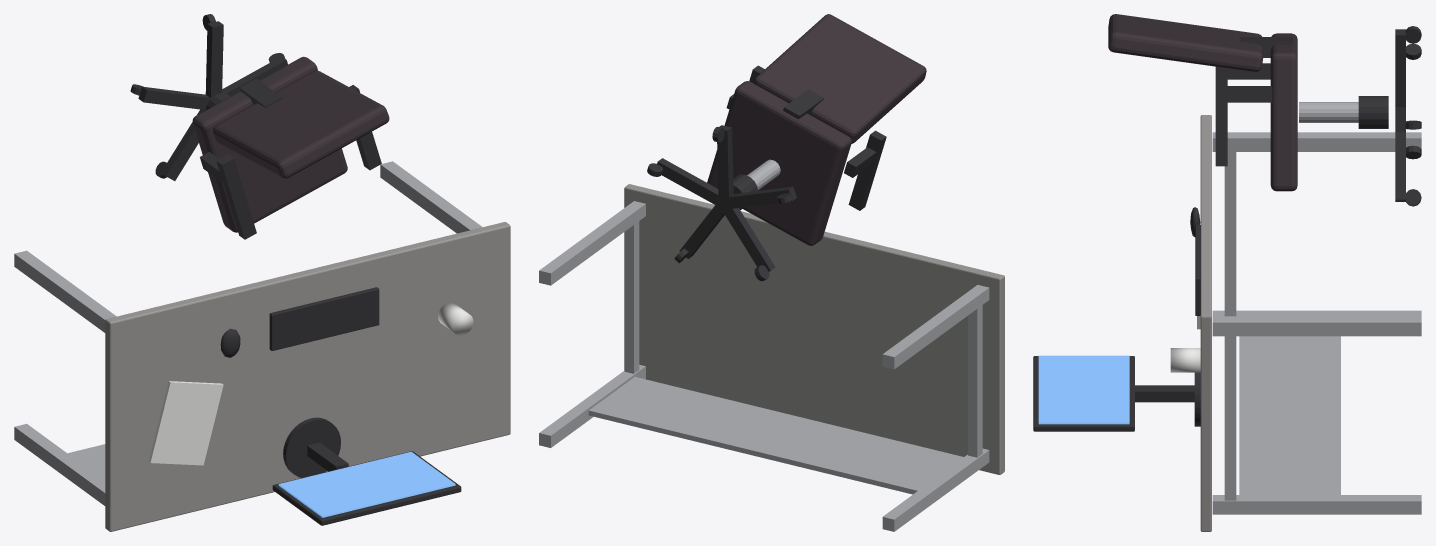
Rendered from podA_workstation0.glb.
The picture shows the model from 3 angles, left to right: view 1: azimuth 30°, elevation 25°; view 2: azimuth 150°, elevation 25°; view 3: azimuth 270°, elevation 25°; orthographic projection. The views are drawn at different scales.
Visible parts, largest first — view 1: podA_desk0_top, podA_chair0_back, podA_chair0_seat, podA_mon0_screen, podA_clut0_papers, podA_clut0_keyboard, podA_desk0_leg.002, podA_desk0_leg.003, podA_desk0_leg, podA_mon0_base, podA_mon0_panel, podA_chair0_arm (+9 smaller); view 2: podA_desk0_top, podA_desk0_modesty, podA_chair0_seat, podA_chair0_back, podA_desk0_leg.002, podA_desk0_leg, podA_desk0_leg.003, podA_desk0_rail, podA_desk0_rail.001, podA_desk0_leg.001, podA_chair0_spoke3, podA_chair0_spoke0 (+7 smaller); view 3: podA_desk0_modesty, podA_mon0_screen, podA_chair0_back, podA_desk0_top, podA_desk0_leg, podA_chair0_seat, podA_desk0_leg.001, podA_desk0_leg.002, podA_desk0_rail, podA_desk0_rail.001, podA_mon0_panel, podA_desk0_leg.003 (+11 smaller).
Part boxes in pixels (x1,y1,x2,y2): podA_desk0_top: [105, 222, 510, 531]; podA_chair0_back: [213, 70, 389, 178]; podA_chair0_seat: [192, 56, 347, 232]; podA_mon0_screen: [278, 451, 455, 517]; podA_clut0_papers: [148, 381, 223, 465]; podA_clut0_keyboard: [269, 287, 379, 350]; podA_desk0_leg.002: [14, 250, 116, 332]; podA_desk0_leg.003: [14, 423, 105, 505]; podA_desk0_leg: [380, 161, 482, 233]; podA_mon0_base: [283, 417, 340, 477]; podA_mon0_panel: [272, 451, 461, 525]; podA_chair0_arm: [216, 154, 256, 239]; podA_desk0_top: [624, 184, 1004, 474]; podA_desk0_modesty: [588, 377, 963, 494]; podA_chair0_seat: [707, 81, 851, 245]; podA_chair0_back: [753, 14, 926, 143]; podA_desk0_leg.002: [882, 285, 989, 369]; podA_desk0_leg: [539, 201, 645, 285]; podA_desk0_leg.003: [882, 448, 989, 531]; podA_desk0_rail: [624, 221, 639, 373]; podA_desk0_rail.001: [968, 305, 982, 457]; podA_desk0_leg.001: [539, 364, 645, 447]; podA_chair0_spoke3: [721, 204, 775, 271]; podA_chair0_spoke0: [657, 158, 725, 208]; podA_desk0_modesty: [1239, 336, 1340, 494]; podA_mon0_screen: [1038, 355, 1129, 424]; podA_chair0_back: [1108, 14, 1263, 71]; podA_desk0_top: [1200, 115, 1211, 531]; podA_desk0_leg: [1212, 316, 1421, 336]; podA_chair0_seat: [1270, 33, 1297, 191]; podA_desk0_leg.001: [1212, 495, 1421, 514]; podA_desk0_leg.002: [1212, 132, 1421, 151]; podA_desk0_rail: [1224, 336, 1236, 500]; podA_desk0_rail.001: [1224, 152, 1236, 316]; podA_mon0_panel: [1033, 356, 1134, 431]; podA_desk0_leg.003: [1212, 310, 1421, 316].
Size of the model in its own units: 1.6 by 1.53 by 1.3.
